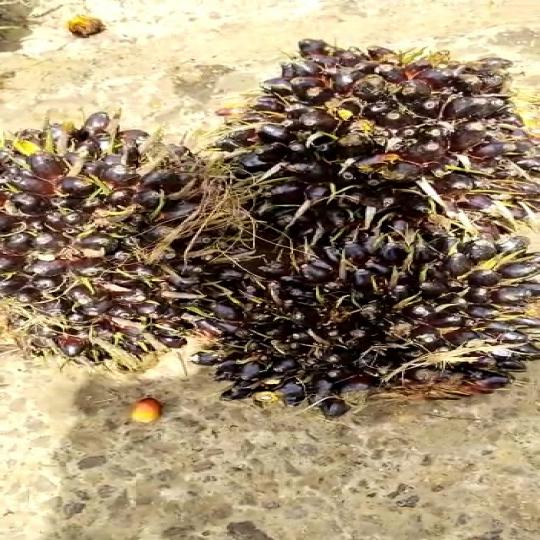mentah: (206, 29, 540, 253), (182, 229, 535, 407), (0, 99, 226, 370)
